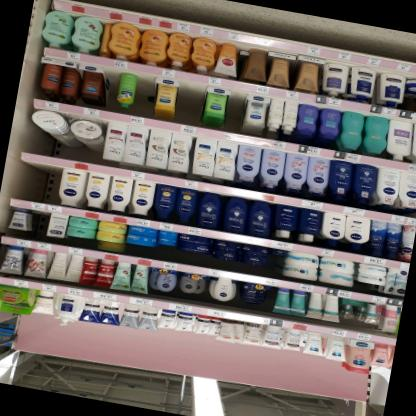empty_space: (12, 153, 62, 204), (170, 73, 205, 128), (220, 80, 249, 134)
